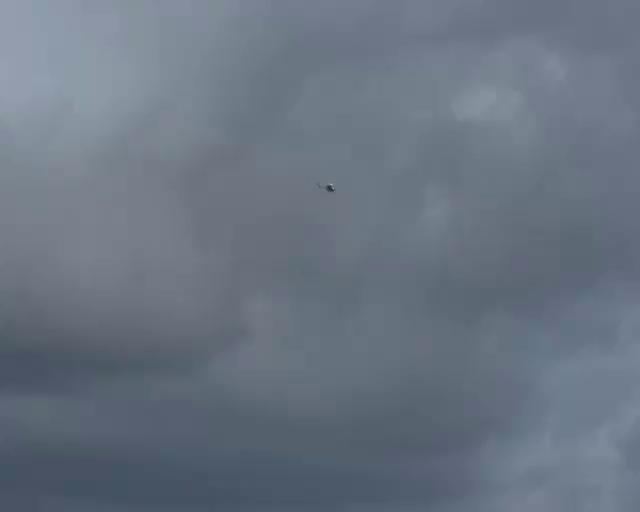HELICOPTER: (317, 182, 335, 192)
